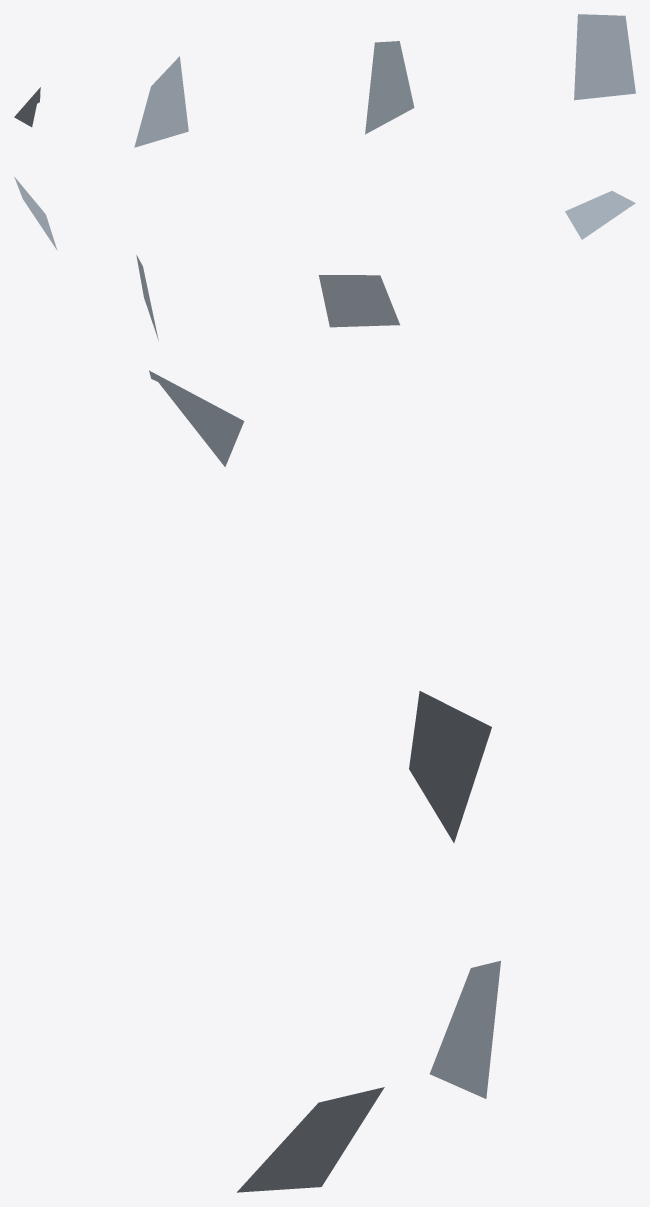
Rendered from dorsal-metacarpal-ligaments-r.glb.
3 renders of one model, top to bottom at view 1: azimuth 30°, elevation 25°; view 2: azimuth 150°, elevation 25°; view 3: azimuth 270°, elevation 25°, orthographic. The views are drawn at different scales.
Visible parts, largest first — view 1: Dorsal metacarpal ligaments.r; view 2: Dorsal metacarpal ligaments.r; view 3: Dorsal metacarpal ligaments.r.
Part boxes in pixels (box(x1,y1,x2,y2)): Dorsal metacarpal ligaments.r: box(14, 14, 635, 147); Dorsal metacarpal ligaments.r: box(14, 176, 635, 340); Dorsal metacarpal ligaments.r: box(149, 370, 500, 1192).
Size of the model in its own units: 0.0411 by 0.0122 by 0.0108.
